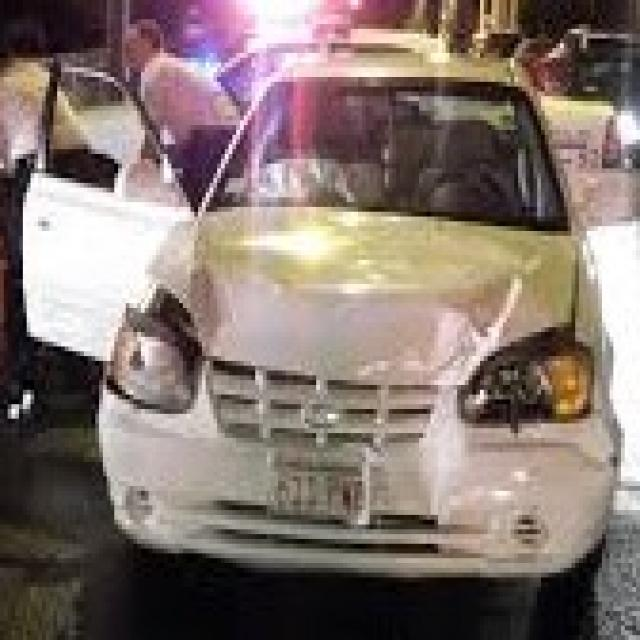moderate: (123, 285, 546, 509)
